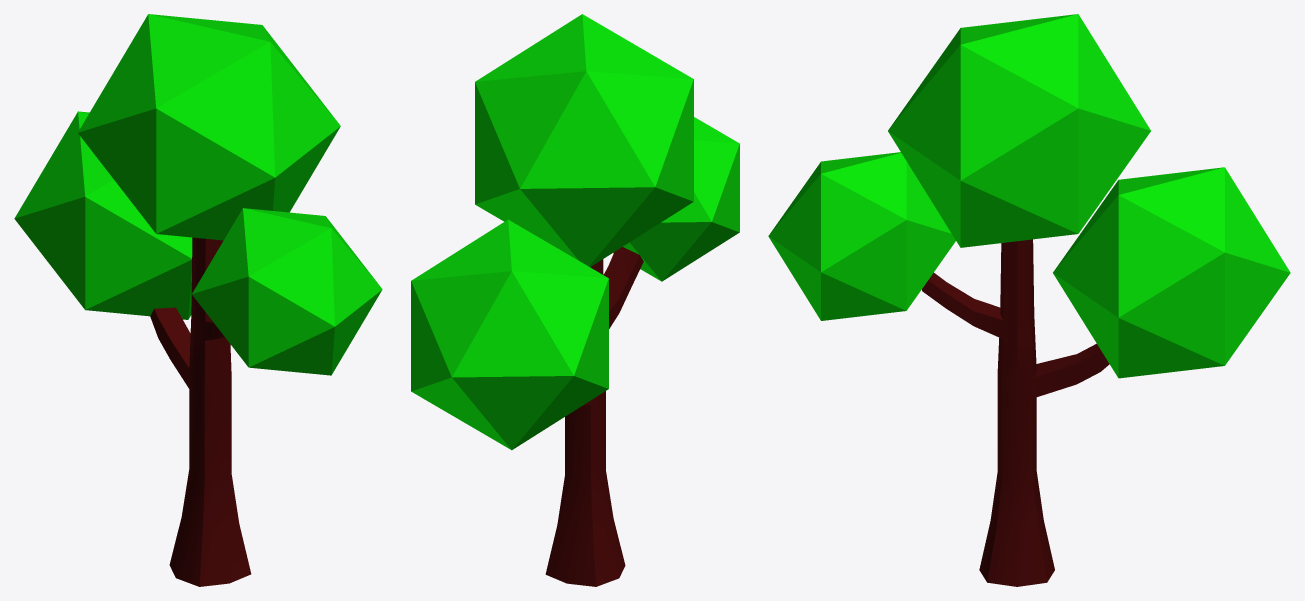
The model's file is Tree5.fbx.
The picture shows the model from 3 angles, left to right: view 1: azimuth 30°, elevation 25°; view 2: azimuth 150°, elevation 25°; view 3: azimuth 270°, elevation 25°; orthographic projection. The views are drawn at different scales.
Parts seen in each view (by area): view 1: polySurface36; view 2: polySurface36; view 3: polySurface36.
Boxes of the visible parts, left/top/right/bottom form: polySurface36: left=14, top=14, right=382, bottom=586; polySurface36: left=411, top=14, right=739, bottom=586; polySurface36: left=768, top=14, right=1290, bottom=586.
Bounding box in the file's own units: 5.59 × 14.15 × 12.39.
